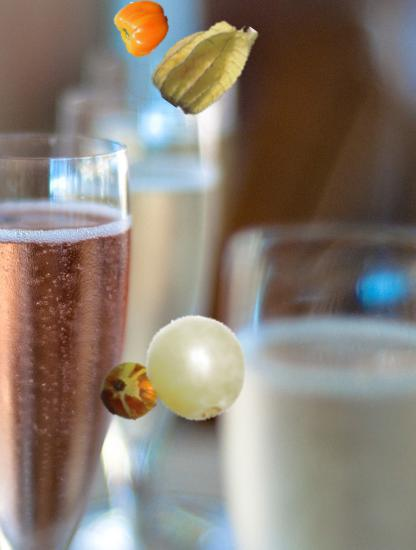Grape: (143, 313, 252, 422)
Onion: (100, 361, 161, 422)
Pepper: (115, 0, 171, 56)
Physalis: (151, 7, 260, 116)
